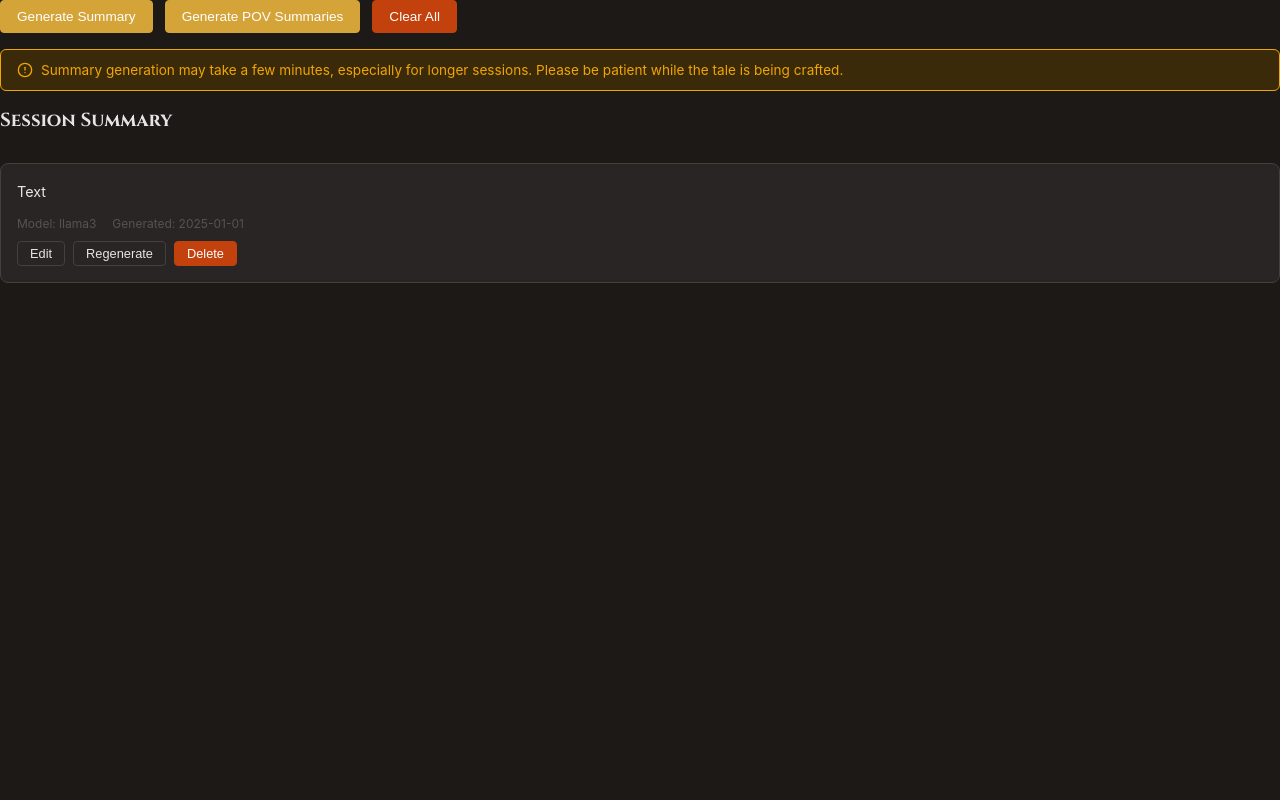
Test case: SummarySection › shows confirm dialog when Clear All is clicked
Click the button "Clear All": (415, 16) [372, 0, 457, 33]
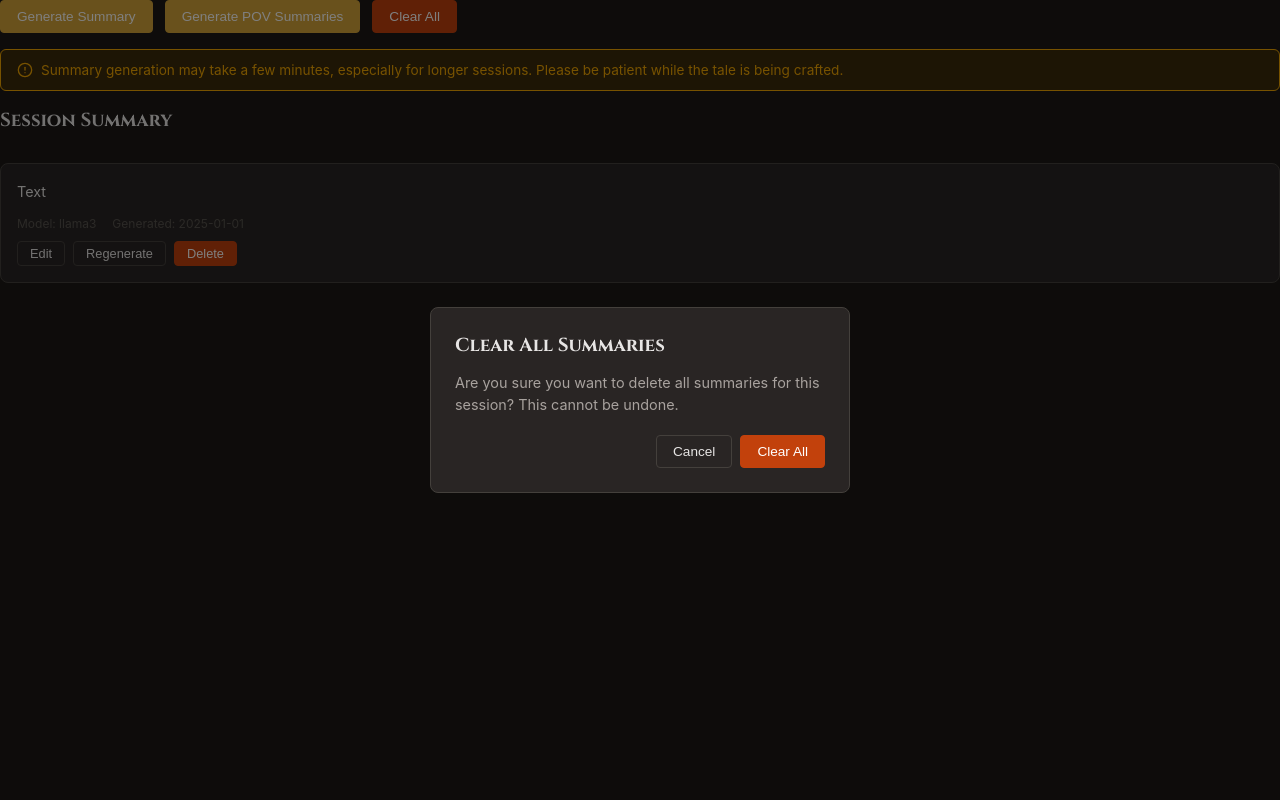
Now the heading "Clear All Summaries" is shown, box [455, 333, 665, 358]
